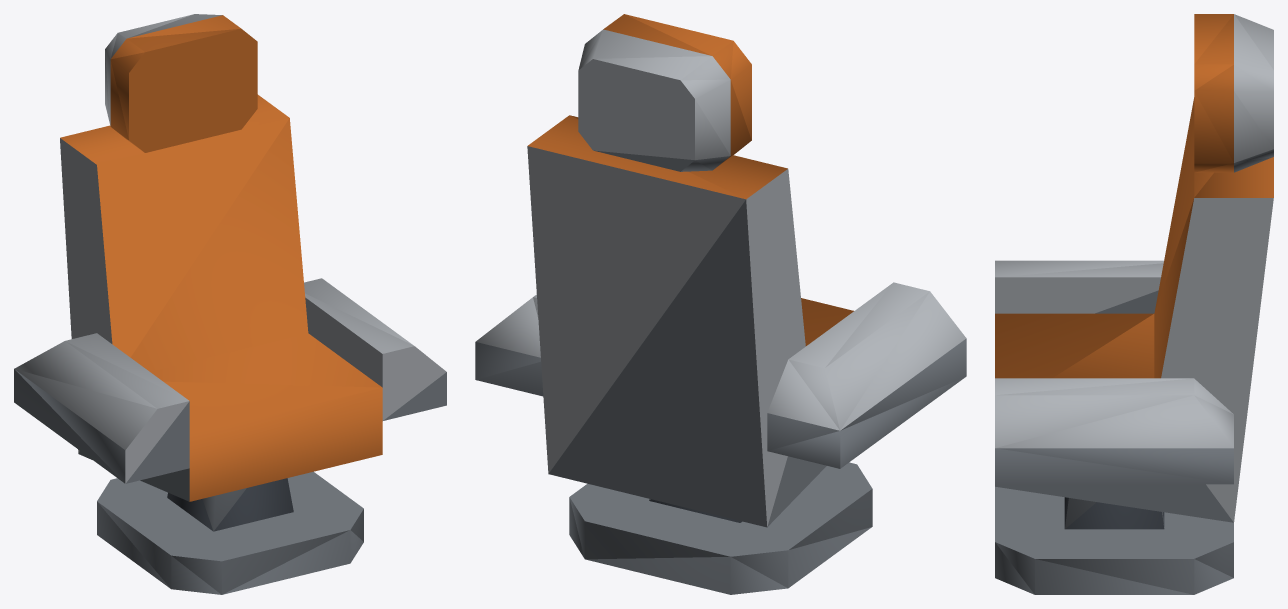
File: Kit_chair-armrest-headrest.fbx
3 views of the same model, side by side, from view 1: azimuth 30°, elevation 25°; view 2: azimuth 150°, elevation 25°; view 3: azimuth 270°, elevation 25° (orthographic). The views are drawn at different scales.
Parts seen in each view (by area): view 1: Kit_chair-armrest-headrest; view 2: Kit_chair-armrest-headrest; view 3: Kit_chair-armrest-headrest.
Part boxes in pixels (<box>): Kit_chair-armrest-headrest: <box>14,14,446,594</box>; Kit_chair-armrest-headrest: <box>475,14,966,594</box>; Kit_chair-armrest-headrest: <box>995,14,1273,594</box>.
Bounding box in the file's own units: 0.5 × 0.7 × 0.35.
